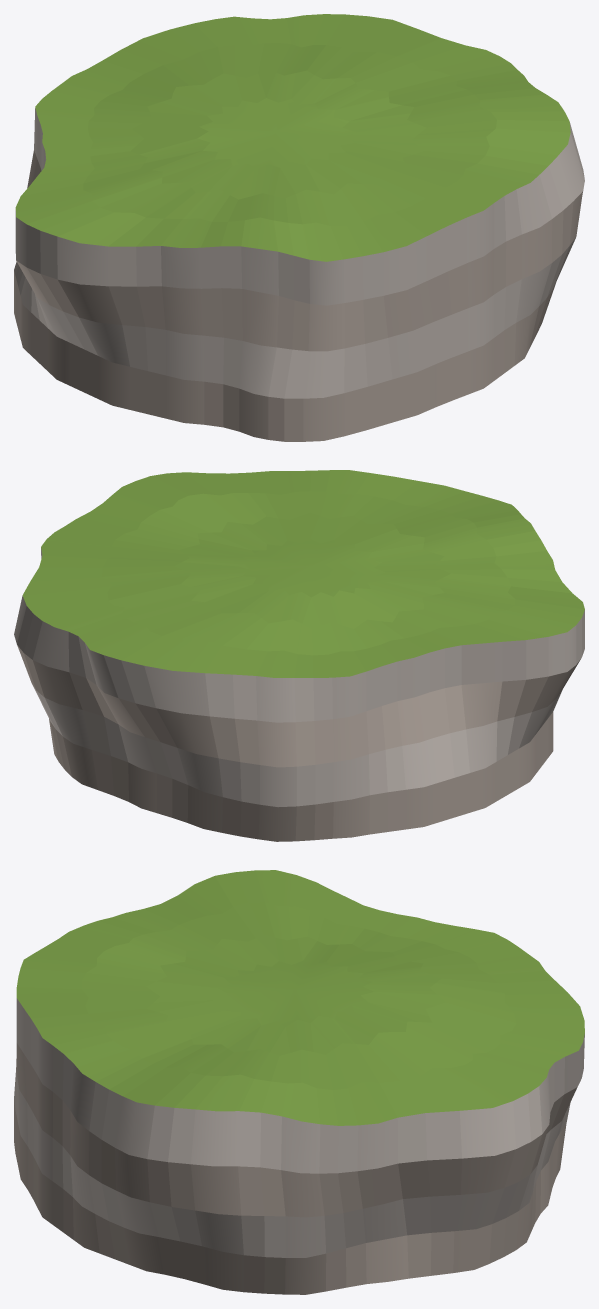
File: SM_Island_Round.fbx
3 renders of one model, top to bottom at view 1: azimuth 30°, elevation 25°; view 2: azimuth 150°, elevation 25°; view 3: azimuth 270°, elevation 25°, orthographic. The views are drawn at different scales.
Visible parts, largest first — view 1: pCylinder1; view 2: pCylinder1; view 3: pCylinder1.
Boxes of the visible parts, <box> form: pCylinder1: <box>14,14,584,441</box>; pCylinder1: <box>14,470,584,841</box>; pCylinder1: <box>14,870,584,1294</box>.
Bounding box in the file's own units: 98.77 × 33.28 × 91.13.
